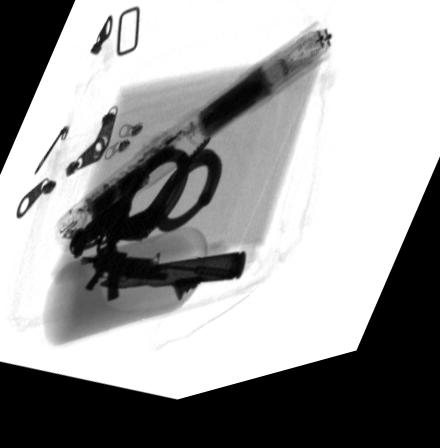Baton: (53, 38, 330, 255)
Bullet: (94, 261, 248, 297)
Gun: (82, 248, 235, 309)
HandCuffs: (67, 152, 222, 261)
